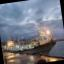fishing boat: (0, 17, 59, 64)
